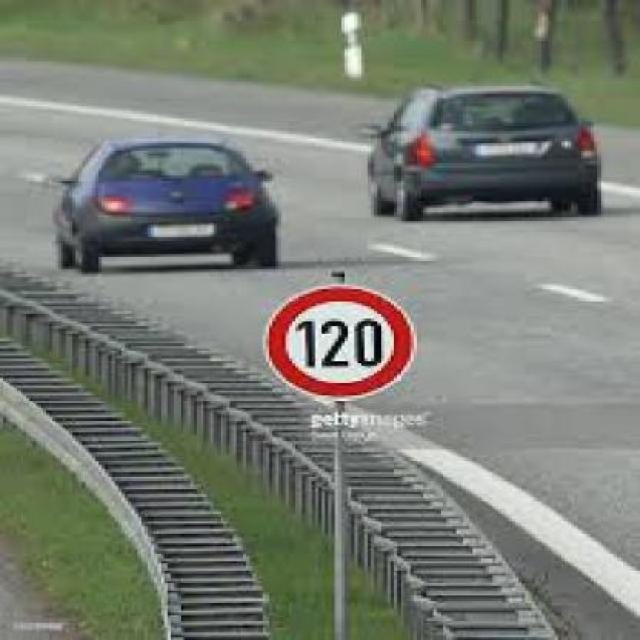forb_speed_over_120: (259, 282, 421, 403)
